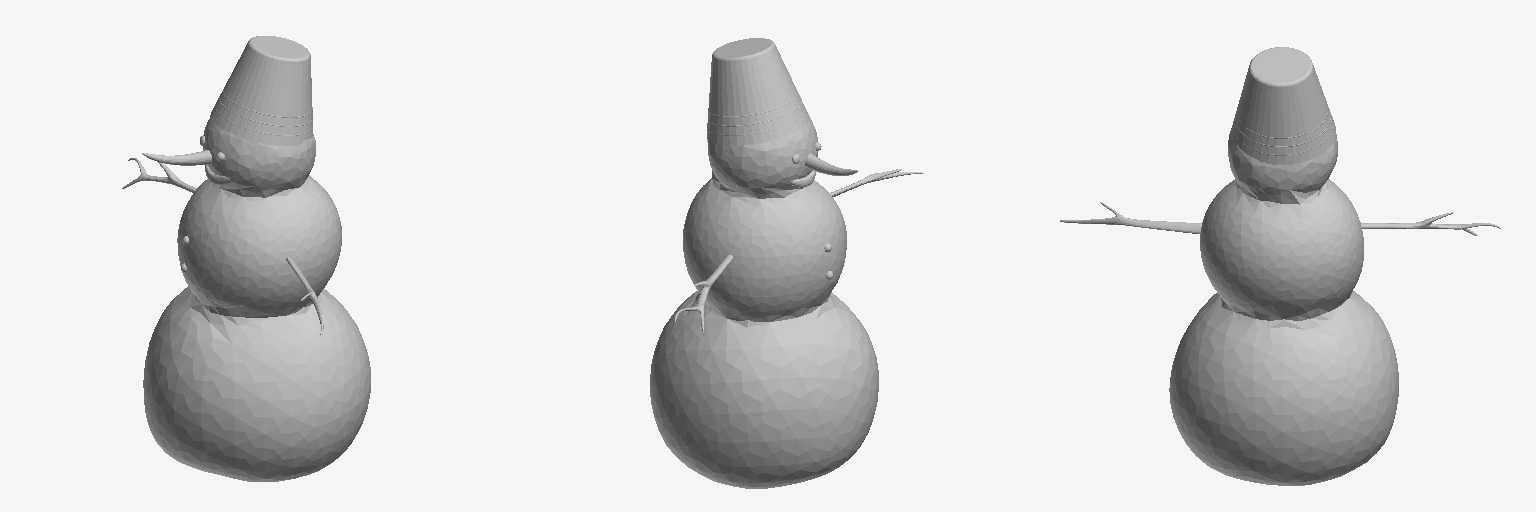
File: snowman2.obj
The picture shows the model from 3 angles: view 1: azimuth 30°, elevation 25°; view 2: azimuth 150°, elevation 25°; view 3: azimuth 270°, elevation 25°; orthographic projection.
Visible parts, largest first — view 1: GeoSphere01; view 2: GeoSphere01; view 3: GeoSphere01.
Boxes of the visible parts, box(x1,y1,x2,y2) form: GeoSphere01: box(122, 36, 370, 481); GeoSphere01: box(650, 38, 923, 488); GeoSphere01: box(1060, 47, 1500, 485).
Bounding box in the file's own units: 81.67 × 160 × 154.